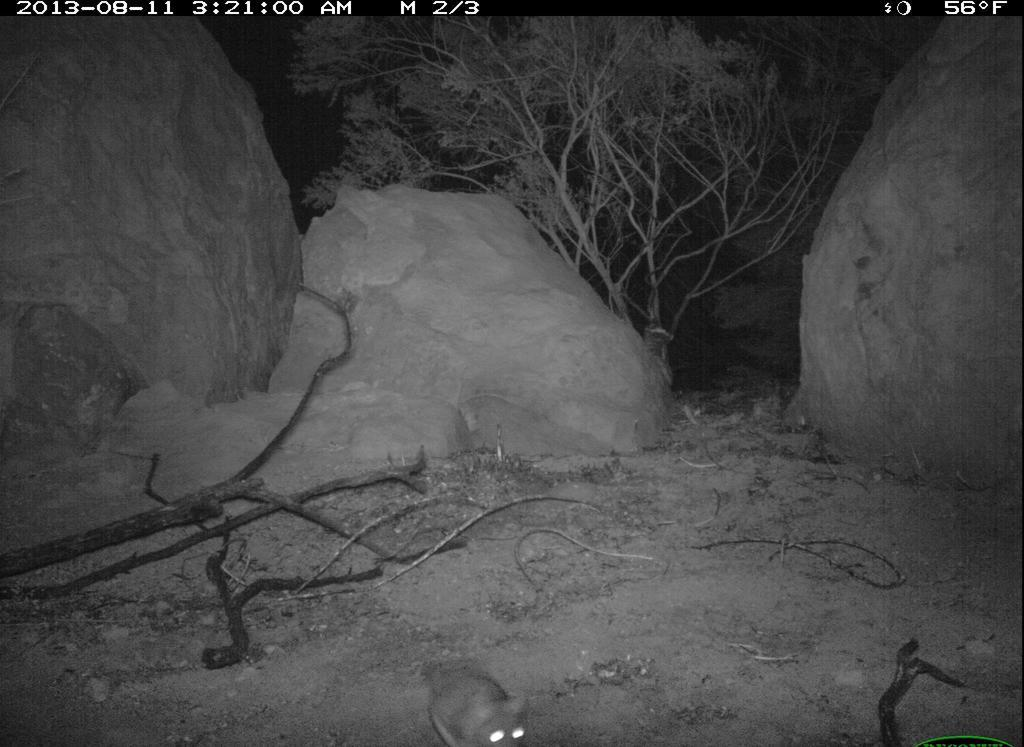rodent: (406, 642, 557, 747)
